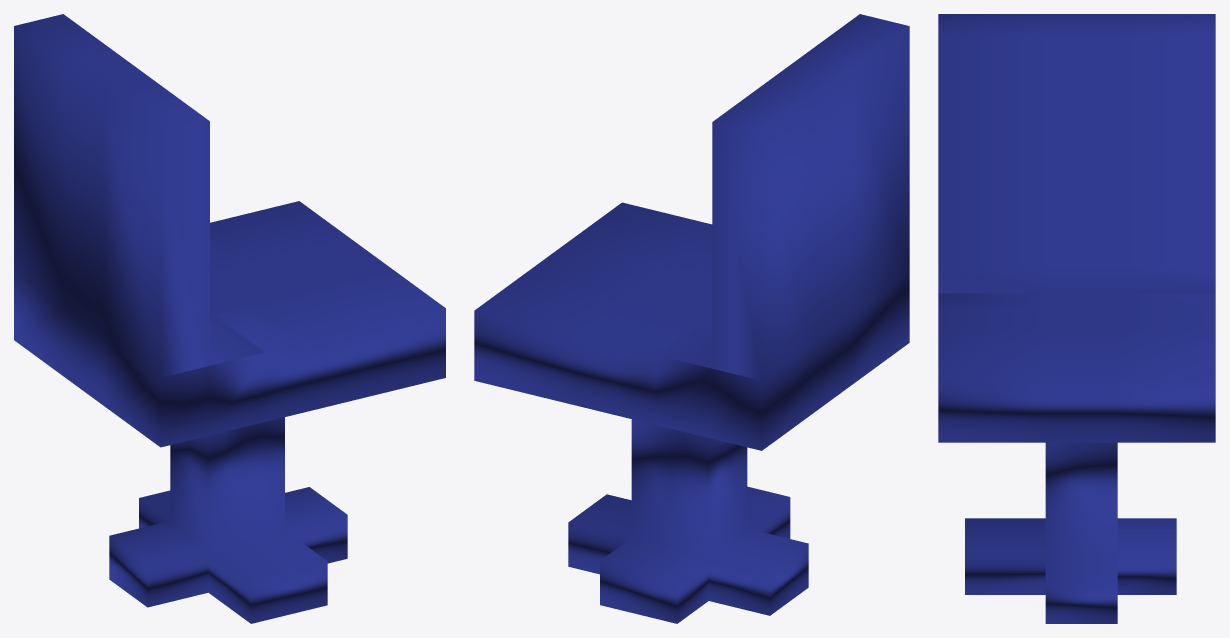
The model's file is Tuoliblend.fbx.
3 renders of one model, left to right at view 1: azimuth 30°, elevation 25°; view 2: azimuth 150°, elevation 25°; view 3: azimuth 270°, elevation 25°, orthographic. The views are drawn at different scales.
Parts seen in each view (by area): view 1: Cube; view 2: Cube; view 3: Cube.
Part boxes in pixels (<box>): Cube: <box>14,14,445,623</box>; Cube: <box>474,14,909,623</box>; Cube: <box>938,14,1215,623</box>.
Bounding box in the file's own units: 0.7624 × 1.34 × 0.6784.
